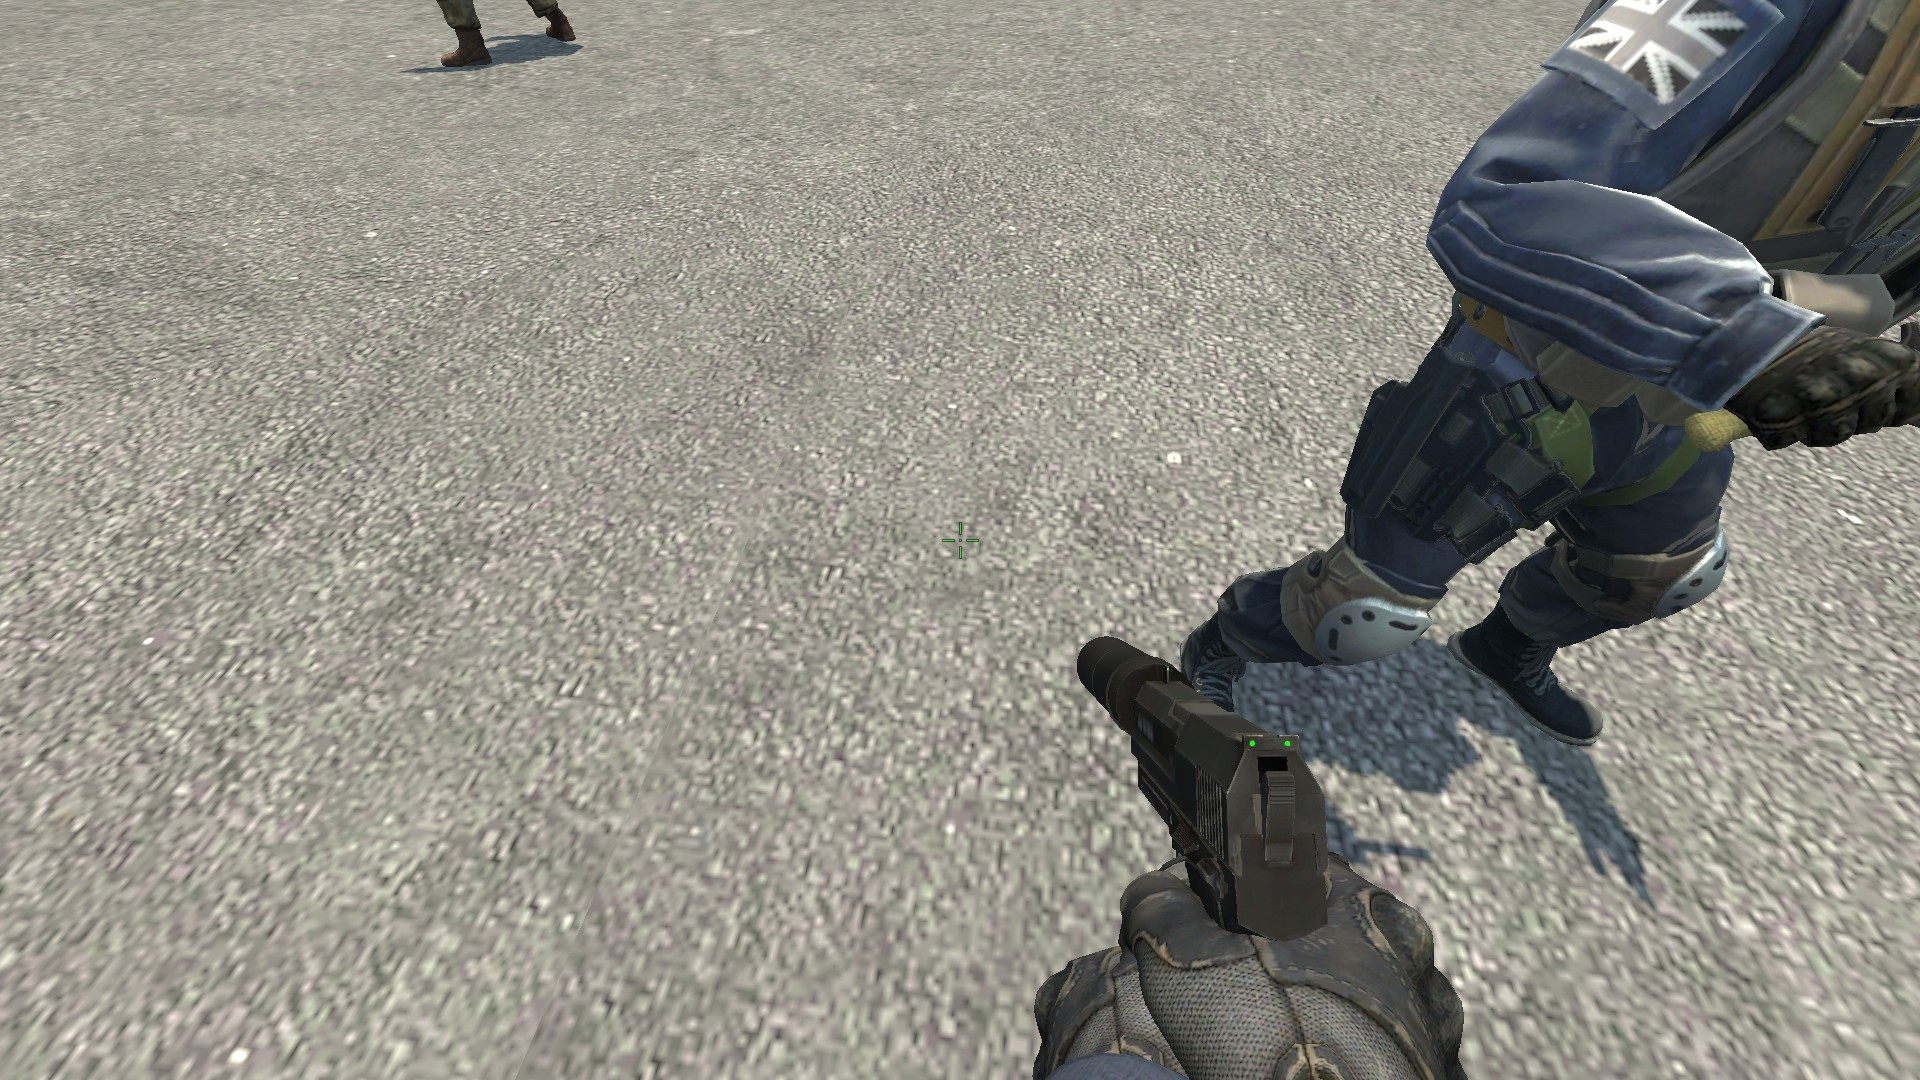ct: (1178, 1, 1920, 748)
